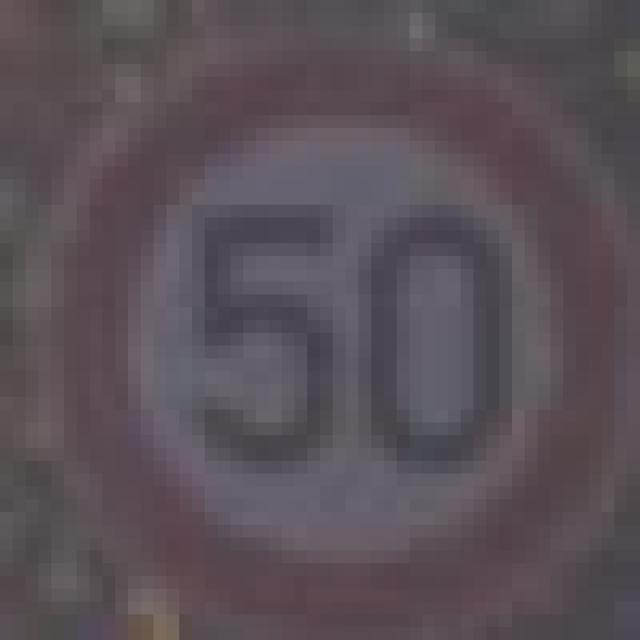SPEED_LIMIT_50: (51, 38, 627, 614)
